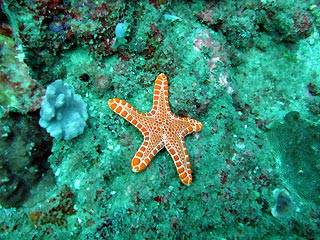starfish: (106, 74, 212, 185)
